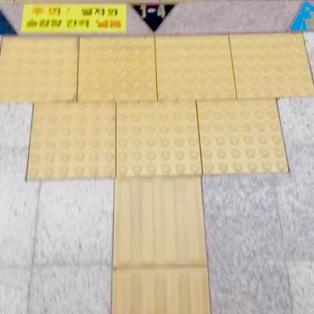Podoctatil: (1, 32, 314, 100), (28, 100, 288, 180), (115, 177, 213, 314)
